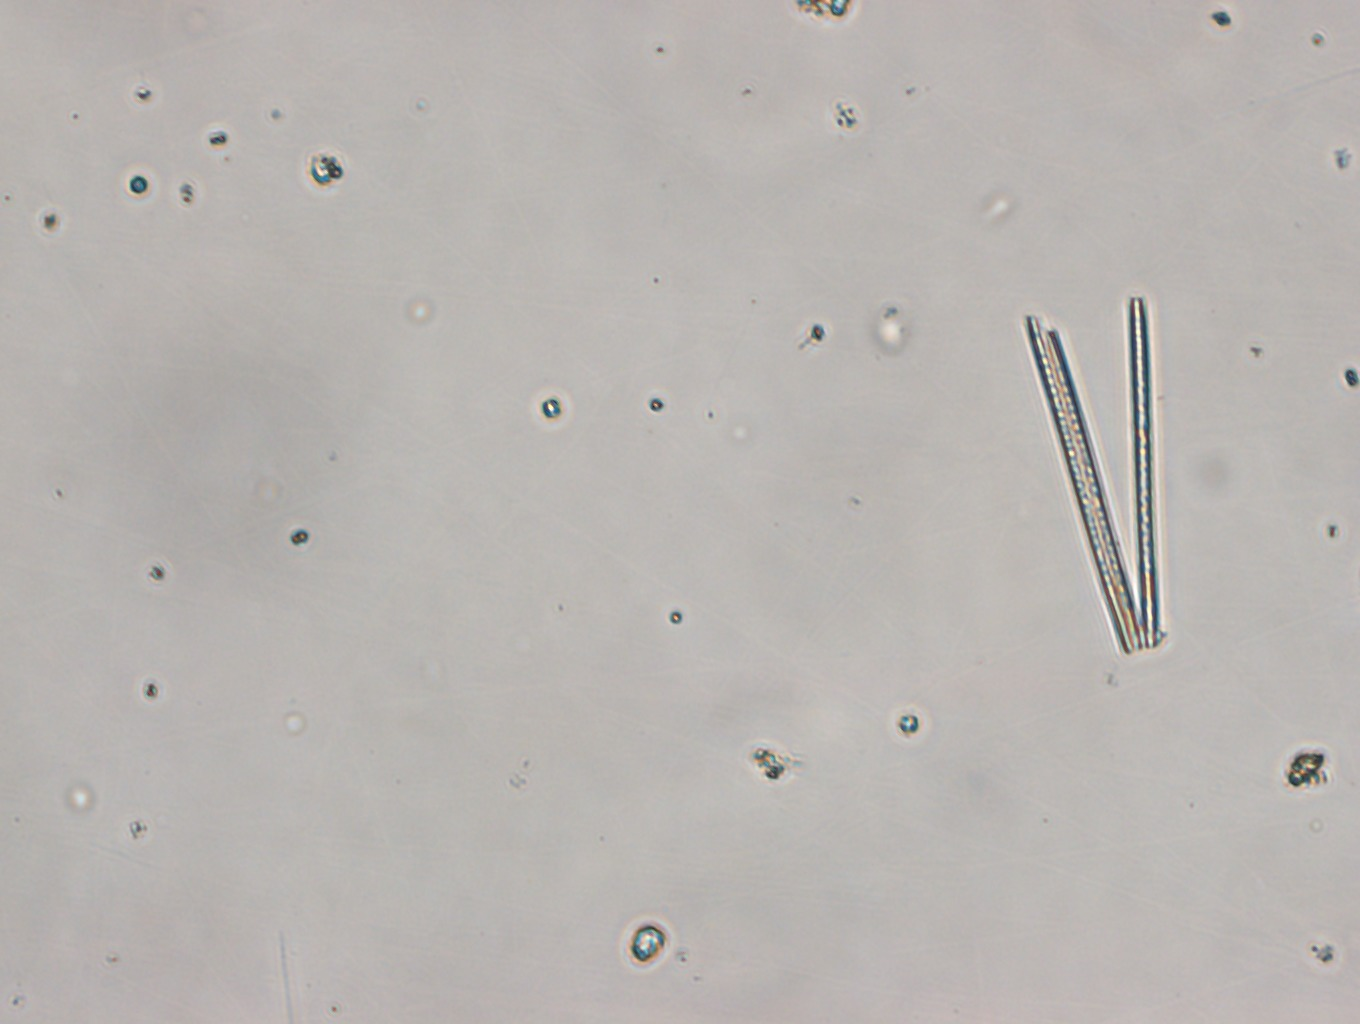thalassionema frauenfeldii: (1023, 294, 1165, 656)
